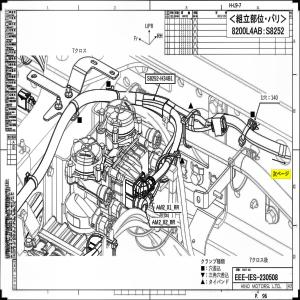PartNumber: (147, 74, 173, 82)
